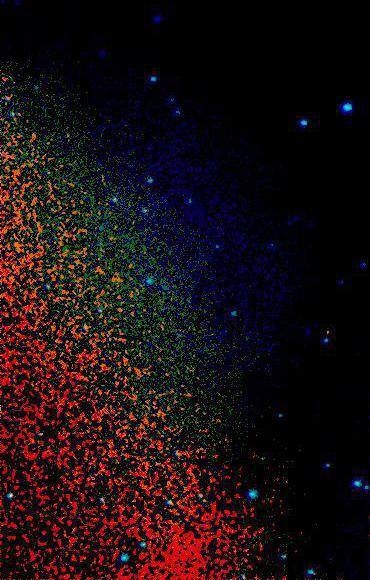star: (314, 315, 344, 345)
